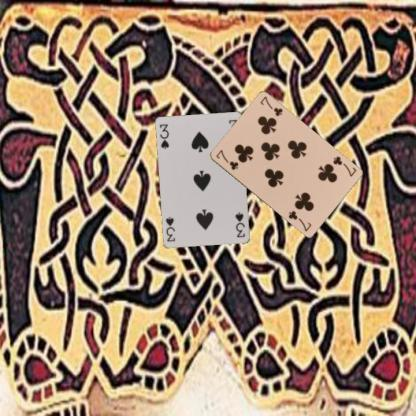3s: (157, 122, 171, 150), (233, 209, 246, 238)
7c: (213, 147, 240, 172), (330, 154, 357, 178)
